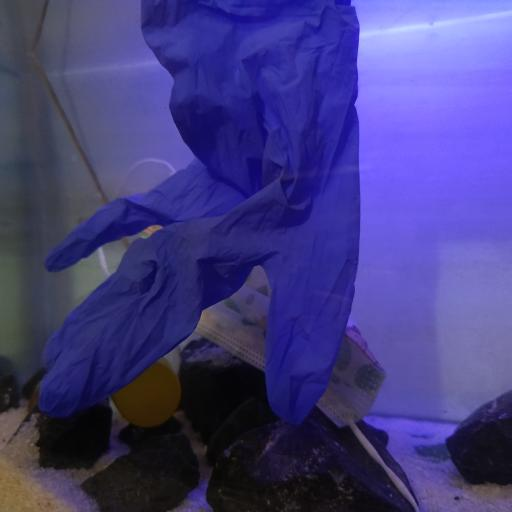bottle_cap: (111, 360, 181, 428)
glove: (30, 1, 360, 425)
mask: (99, 158, 387, 452)
